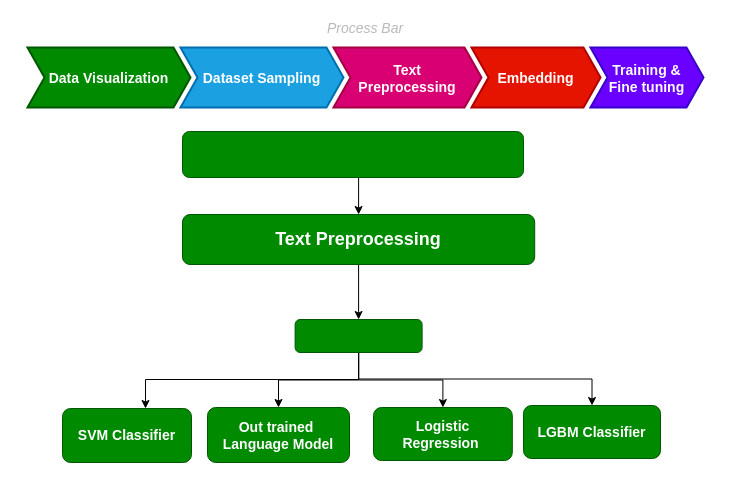
Some shapes in this 730 by 480 pixel diagram are drawn without their labels. The centre of each missing label's shape, as x and y in pixels:
Plot Sommeries: point 353,154
TFIDF: point 358,335
